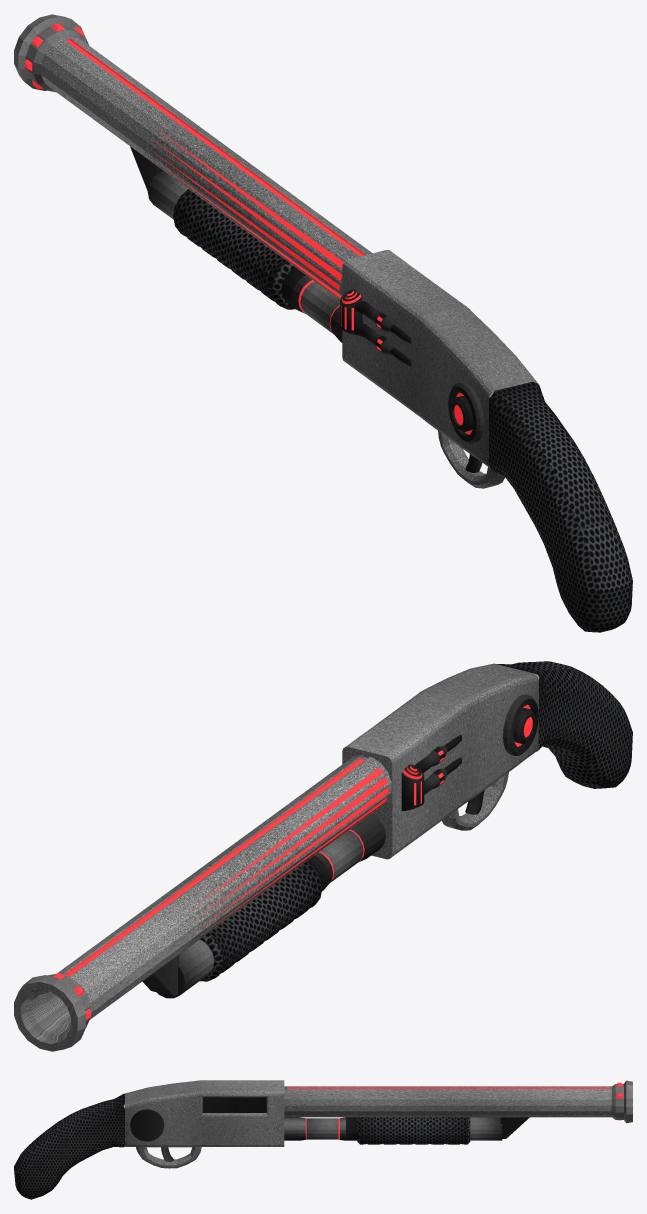
The model's file is escopetaFINAL.fbx.
The picture shows the model from 3 angles, top to bottom: view 1: azimuth 30°, elevation 25°; view 2: azimuth 150°, elevation 25°; view 3: azimuth 270°, elevation 25°; orthographic projection. The views are drawn at different scales.
Parts seen in each view (by area): view 1: Cylinder; view 2: Cylinder; view 3: Cylinder.
Boxes of the visible parts, bbox=[...] form: Cylinder: bbox=[14, 14, 632, 632]; Cylinder: bbox=[14, 661, 632, 1051]; Cylinder: bbox=[14, 1080, 632, 1199].
Bounding box in the file's own units: 298 × 807 × 3954.
Materials: 5 (3 with a texture image).
